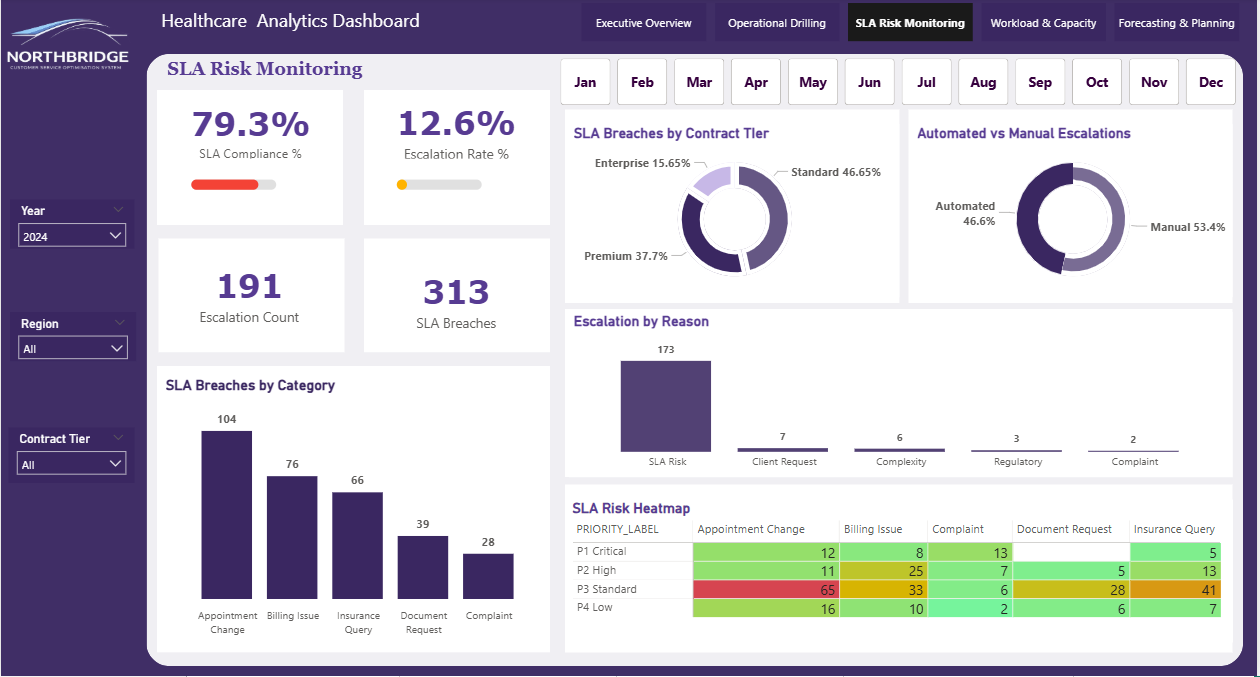

This screenshot's page, from the dashboard's own definition file:
{"tool":"powerbi","page":{"name":"SLA Risk Monitoring","canvas":[1480,800],"ordinal":2},"visuals":[{"type":"shape","box":[171.4,67.2,1291.9,721.1],"z":0},{"type":"textbox","box":[190.9,67.2,298.7,46],"z":1000},{"type":"shape","box":[183.8,109.6,219.2,159.1],"z":2000},{"type":"shape","box":[427.7,109.6,219.2,159.1],"z":3000},{"type":"shape","box":[185.6,284.5,219.2,134.3],"z":4000},{"type":"shape","box":[427.7,284.5,219.2,134.3],"z":5000},{"type":"shape","box":[183.8,434.8,463,337.6],"z":6000},{"type":"shape","box":[664.5,574.4,786.5,197.9],"z":7000},{"type":"cardVisual","fields":{"Data":["Calculations.SLA Compliance %"]},"box":[185.6,113.1,217.4,155.5],"z":8000},{"type":"cardVisual","fields":{"Data":["Calculations.SLA Breaches"]},"box":[438.3,302.2,196.2,114.9],"z":9000},{"type":"cardVisual","fields":{"Data":["Calculations.Escalation Count"]},"box":[194.4,295.1,196.2,114.9],"z":10000},{"type":"cardVisual","fields":{"Data":["Calculations.Escalation Rate %"]},"box":[427.7,113.1,217.4,155.5],"z":11000},{"type":"clusteredColumnChart","title":"SLA Breaches by Category","fields":{"Category":["TICKETCATEGORIES.CATEGORY_NAME"],"Y":["Calculations.SLA Breaches"]},"box":[189.1,447.1,452.4,312.8],"z":12000},{"type":"shape","box":[664.5,132.6,394.1,228],"z":13000},{"type":"pivotTable","title":"SLA Risk Heatmap","fields":{"Rows":["PRIORITYLEVELS.PRIORITY_LABEL"],"Columns":["TICKETCATEGORIES.CATEGORY_NAME"],"Values":["Calculations.SLA Breaches"]},"box":[668.1,592.1,782.9,167.9],"z":14000},{"type":"shape","box":[1069.2,132.6,381.7,228],"z":15000},{"type":"shape","box":[664.5,367.6,786.5,197.9],"z":16000},{"type":"clusteredColumnChart","title":"Escalation by Reason","fields":{"Y":["Calculations.Escalation Count"],"Category":["ESCALATIONLOG.ESCALATION_REASON"]},"box":[669.8,371.1,781.2,194.4],"z":17000},{"type":"donutChart","title":"Automated vs Manual Escalations","fields":{"Category":["ESCALATIONLOG.Escalation Type"],"Y":["Calculations.Escalation Count"]},"box":[1074.5,150.2,376.4,203.2],"z":18000},{"type":"donutChart","title":"SLA Breaches by Contract TIer","fields":{"Category":["CLIENTS.CONTRACT_TIER"],"Y":["Calculations.SLA Breaches"]},"box":[669.8,150.2,388.8,203.2],"z":19000},{"type":"slicer","fields":{"Values":["Date.Year"]},"box":[10.6,238.6,146.7,58.3],"z":20000},{"type":"slicer","fields":{"Values":["CLIENTS.REGION"]},"box":[10.6,371.1,148.5,58.3],"z":21000},{"type":"slicer","fields":{"Values":["CLIENTS.CONTRACT_TIER"]},"box":[8.8,507.2,148.5,65.4],"z":22000},{"type":"image","box":[0,0,157.3,109.6],"z":23000},{"type":"textbox","box":[183.8,7.1,339.3,46],"z":24000},{"type":"pageNavigator","box":[684,7.1,779.4,46],"z":25000},{"type":"advancedSlicerVisual","fields":{"Values":["Date.Month_name"]},"box":[653.9,67.2,813,65.4],"z":26000}]}

Visuals, with their boxes in screenshot pixels (x1, y1, x2, y2), scaled from the page's 1480x800 canvas onto the 1260x677 screenshot:
shape: select_region(146, 57, 1246, 667)
textbox: select_region(163, 57, 417, 96)
shape: select_region(156, 93, 343, 227)
shape: select_region(364, 93, 551, 227)
shape: select_region(158, 241, 345, 354)
shape: select_region(364, 241, 551, 354)
shape: select_region(156, 368, 551, 654)
shape: select_region(566, 486, 1235, 654)
cardVisual - Calculations.SLA Compliance %: select_region(158, 96, 343, 227)
cardVisual - Calculations.SLA Breaches: select_region(373, 256, 540, 353)
cardVisual - Calculations.Escalation Count: select_region(166, 250, 333, 347)
cardVisual - Calculations.Escalation Rate %: select_region(364, 96, 549, 227)
"SLA Breaches by Category" clusteredColumnChart: select_region(161, 378, 546, 643)
shape: select_region(566, 112, 901, 305)
"SLA Risk Heatmap" pivotTable: select_region(569, 501, 1235, 643)
shape: select_region(910, 112, 1235, 305)
shape: select_region(566, 311, 1235, 479)
"Escalation by Reason" clusteredColumnChart: select_region(570, 314, 1235, 479)
"Automated vs Manual Escalations" donutChart: select_region(915, 127, 1235, 299)
"SLA Breaches by Contract TIer" donutChart: select_region(570, 127, 901, 299)
slicer - Date.Year: select_region(9, 202, 134, 251)
slicer - CLIENTS.REGION: select_region(9, 314, 135, 363)
slicer - CLIENTS.CONTRACT_TIER: select_region(7, 429, 134, 485)
image: select_region(0, 0, 134, 93)
textbox: select_region(156, 6, 445, 45)
pageNavigator: select_region(582, 6, 1246, 45)
advancedSlicerVisual - Date.Month_name: select_region(557, 57, 1249, 112)
